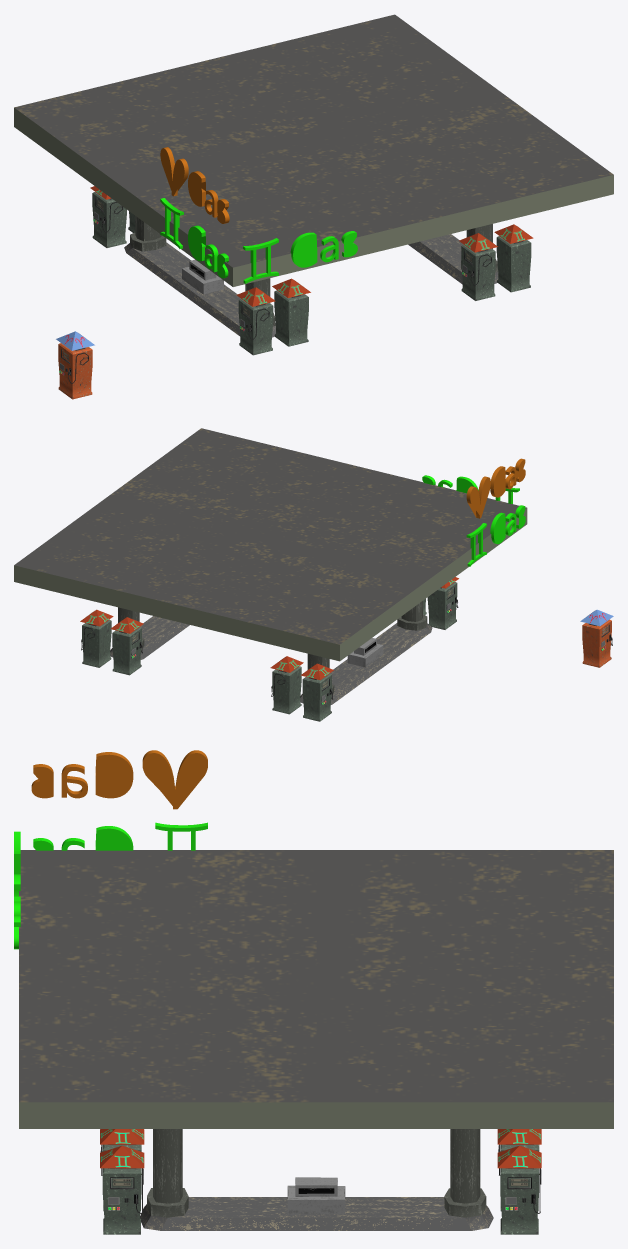
The model's file is Gas_Station.fbx.
The picture shows the model from 3 angles, top to bottom: view 1: azimuth 30°, elevation 25°; view 2: azimuth 150°, elevation 25°; view 3: azimuth 270°, elevation 25°; orthographic projection. The views are drawn at different scales.
Parts seen in each view (by area): view 1: Cube_1_2, gas_station_pump_5, gas_station_pump_8, gas_station_pump, gas_station_pump_4, gas_station_pump_1, gas_station_pump_2, ^, G_3, MoText, Text_3, G (+1 smaller); view 2: Cube_1_2, gas_station_pump_3, gas_station_pump_8, gas_station_pump_6, gas_station_pump_7, gas_station_pump_2, gas_station_pump, ^, Text_3, G, G_2; view 3: Cube_1_2, gas_station_pump_7, gas_station_pump_5, ^, G, gas_station_pump_6, gas_station_pump_4, G_2, s, a.
Boxes of the visible parts, <box> form: Cube_1_2: <box>14,14,613,337</box>; gas_station_pump_5: <box>494,224,533,292</box>; gas_station_pump_8: <box>56,331,94,399</box>; gas_station_pump: <box>236,287,275,355</box>; gas_station_pump_4: <box>459,233,497,300</box>; gas_station_pump_1: <box>272,278,310,346</box>; gas_station_pump_2: <box>90,186,126,247</box>; ^: <box>160,147,188,196</box>; G_3: <box>290,232,317,267</box>; MoText: <box>243,238,278,283</box>; Text_3: <box>160,198,183,248</box>; G: <box>188,171,205,206</box>; Cube_1_2: <box>14,428,527,704</box>; gas_station_pump_3: <box>270,656,303,714</box>; gas_station_pump_8: <box>580,609,613,667</box>; gas_station_pump_6: <box>110,617,143,675</box>; gas_station_pump_7: <box>80,609,113,667</box>; gas_station_pump_2: <box>300,663,333,721</box>; gas_station_pump: <box>427,577,458,629</box>; ^: <box>466,476,490,518</box>; Text_3: <box>466,523,486,566</box>; G: <box>490,466,505,497</box>; G_2: <box>490,512,505,544</box>; Cube_1_2: <box>19,850,613,1230</box>; gas_station_pump_7: <box>497,1145,541,1234</box>; gas_station_pump_5: <box>100,1145,144,1234</box>; ^: <box>142,750,207,809</box>; G: <box>95,752,133,798</box>; gas_station_pump_6: <box>497,1129,541,1211</box>; gas_station_pump_4: <box>100,1129,144,1211</box>; G_2: <box>95,826,133,850</box>; s: <box>31,764,53,798</box>; a: <box>61,764,87,798</box>.
Bounding box in the file's own units: 2425 × 884 × 1807.
6 materials, 4 textured.
